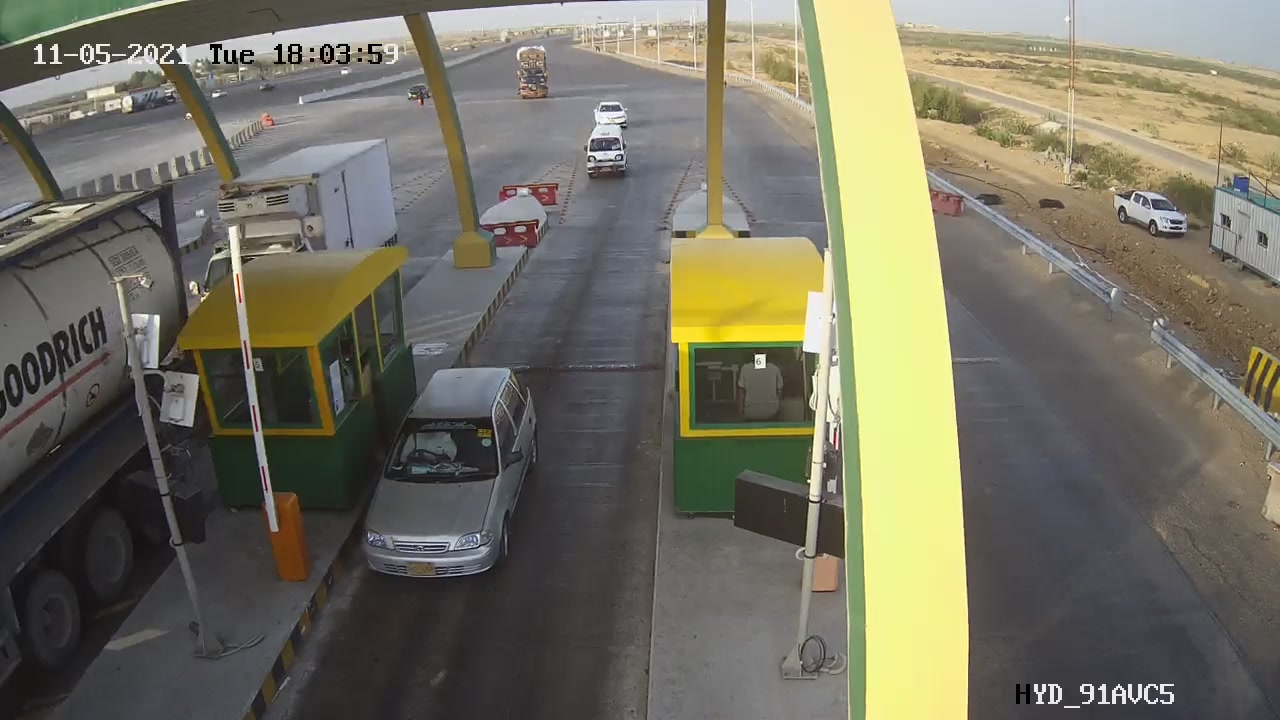F1: (346, 348, 557, 599)
